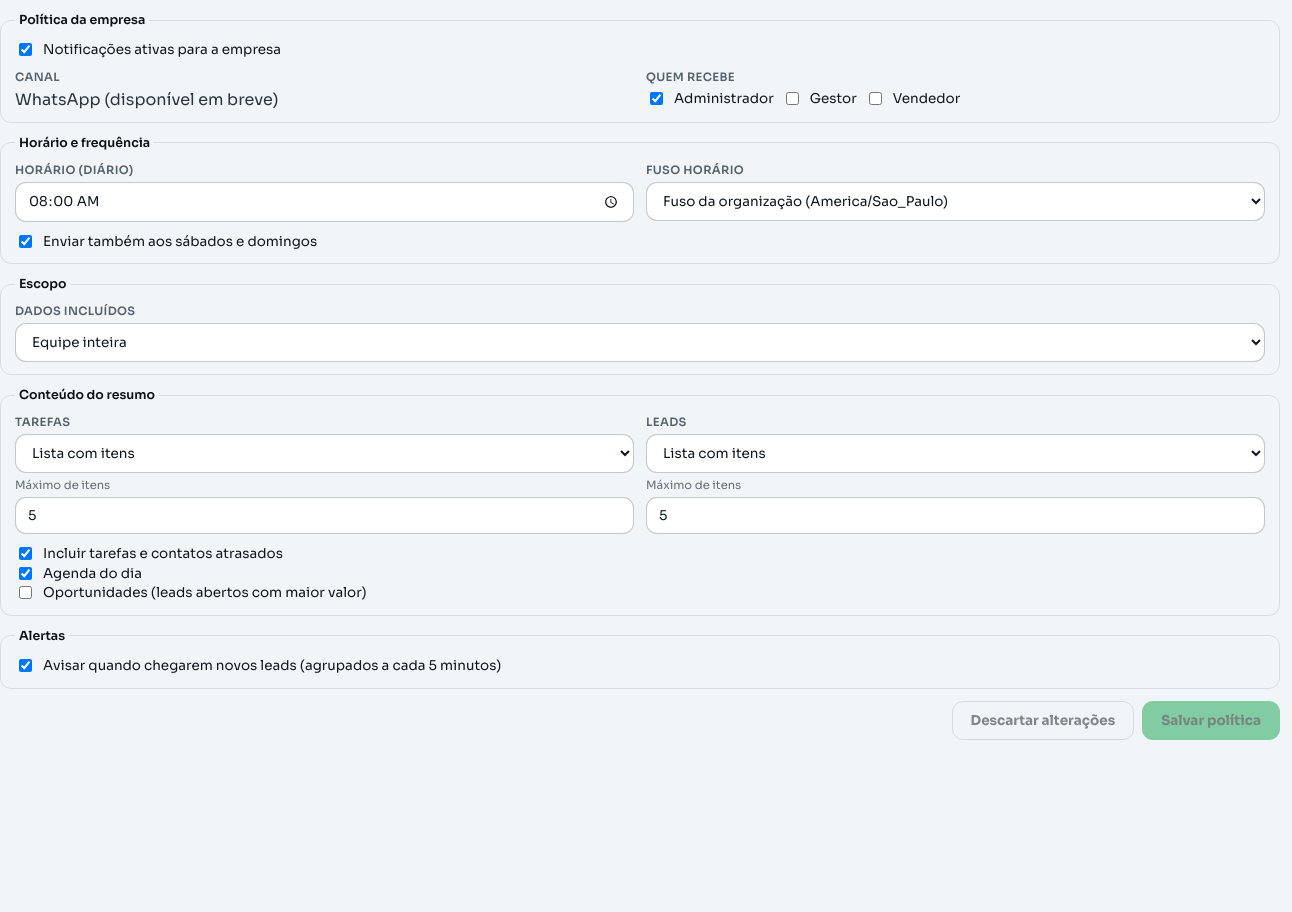
Test: CompanyPolicyPanel › 422: mostra a mensagem de validação do backend
Replace the text in the time field labelled "Horário (diário)" with "07:30" at {"x": 324, "y": 202}, box [15, 182, 634, 222]
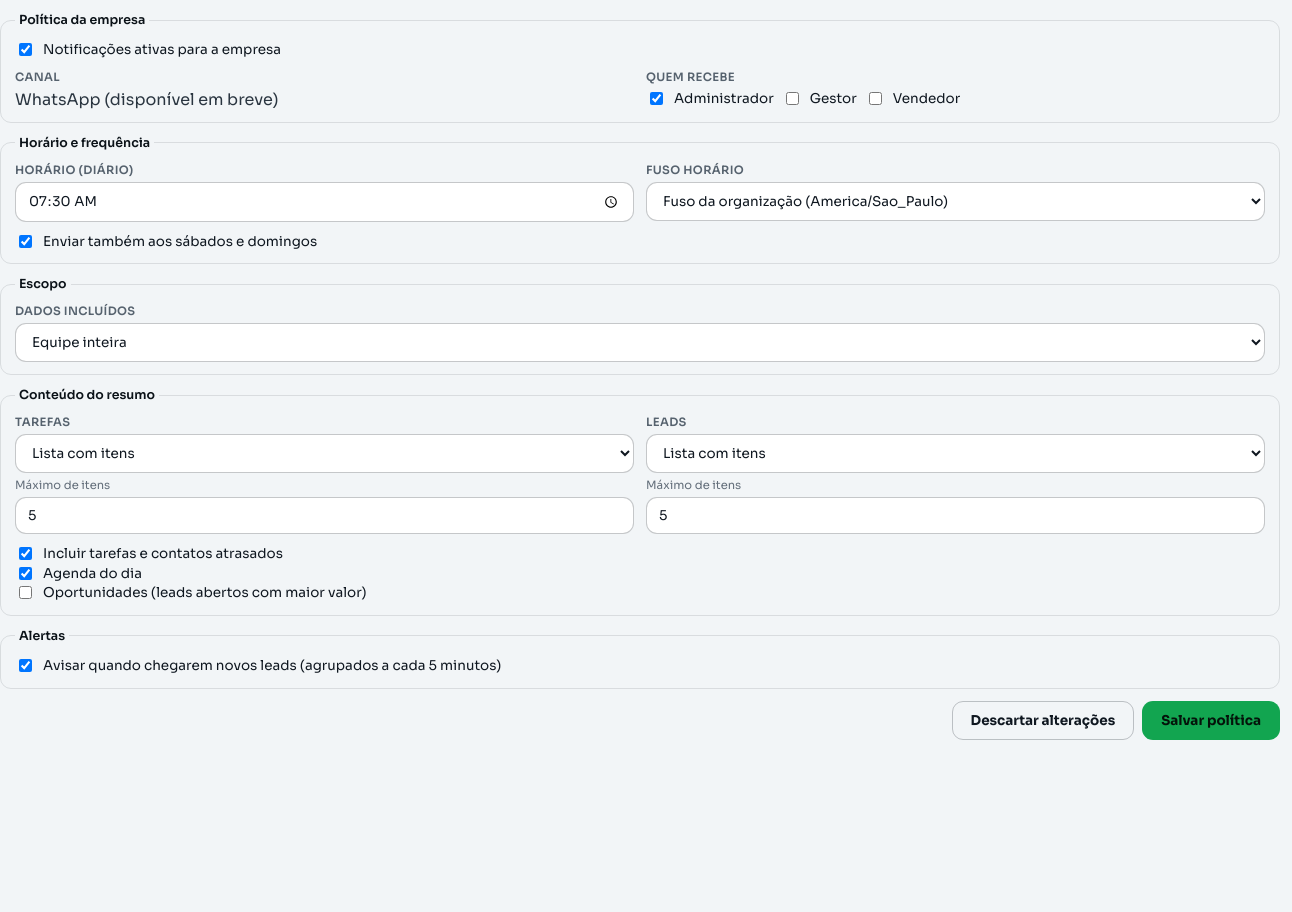
Click the button "Salvar política" at {"x": 1211, "y": 720}, box [1142, 700, 1280, 740]
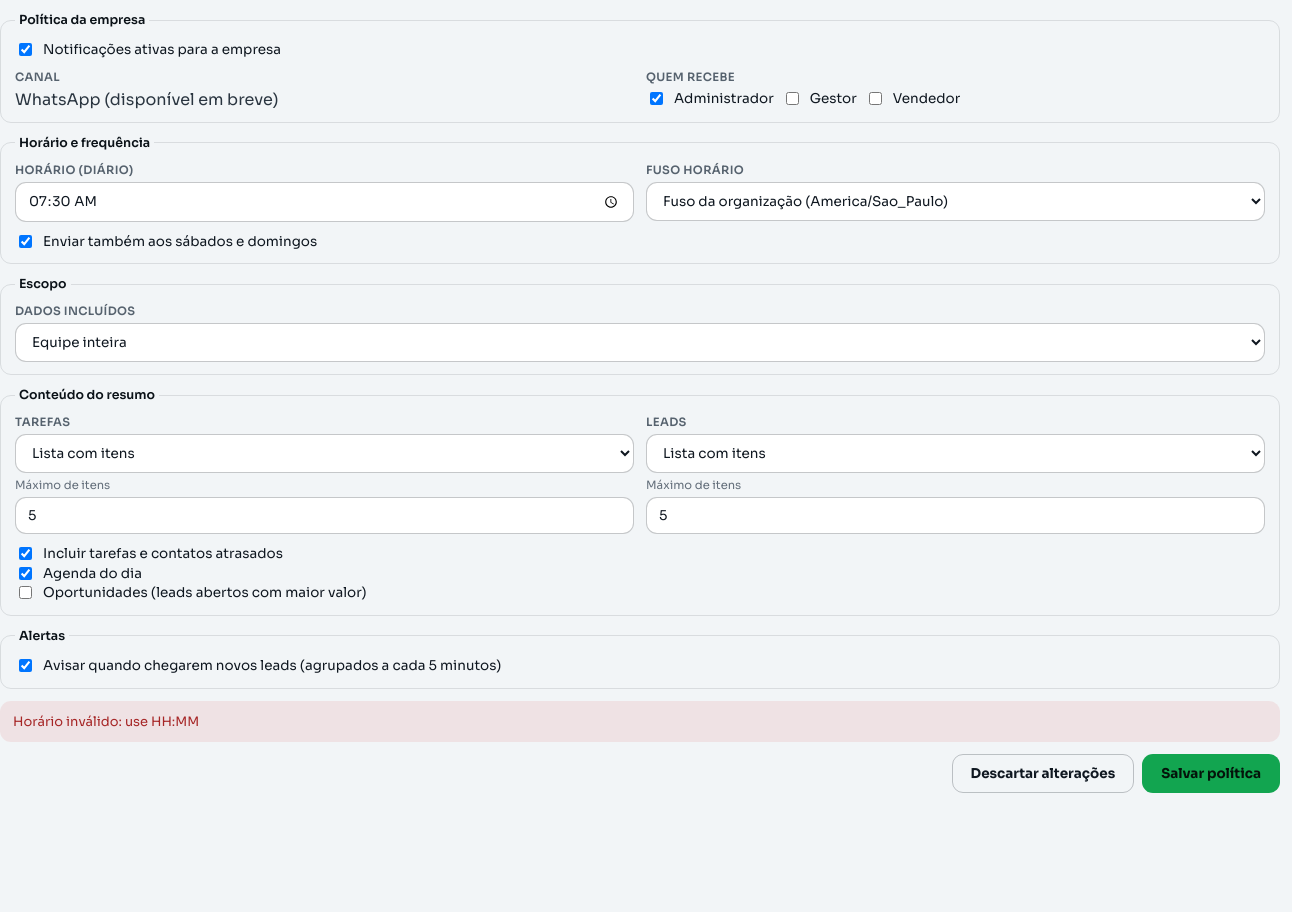
expect the message shows "Horário inválido": met, box [13, 712, 199, 730]
